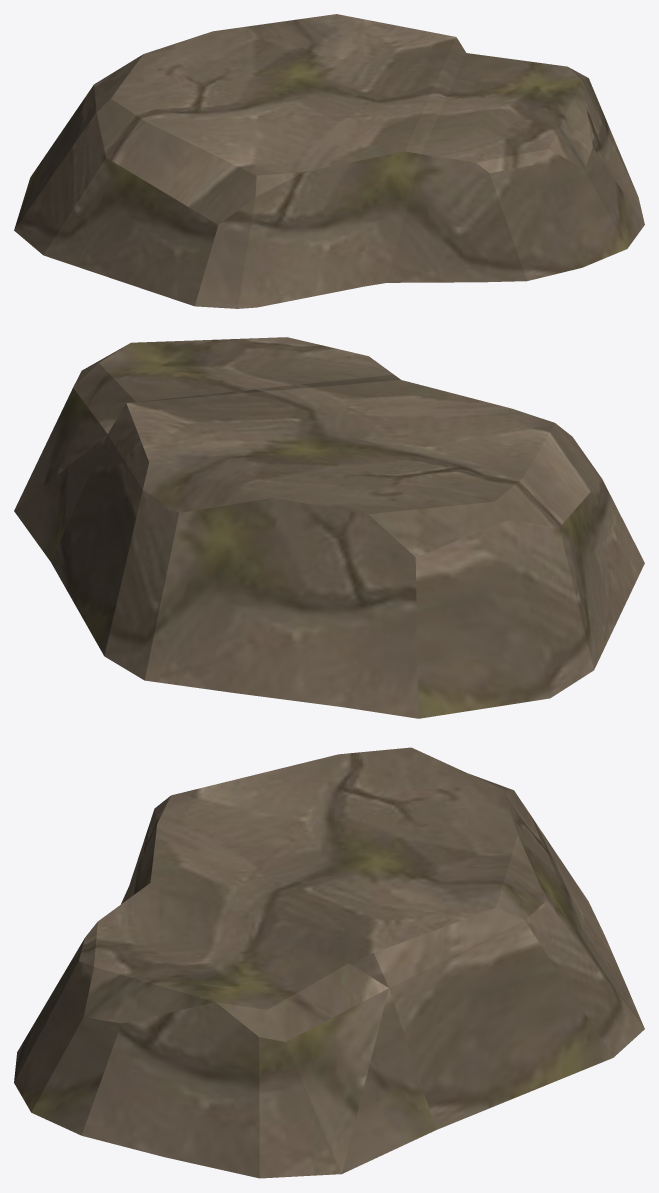
The model's file is gpebble_round_5.glb.
3 renders of one model, top to bottom at view 1: azimuth 30°, elevation 25°; view 2: azimuth 150°, elevation 25°; view 3: azimuth 270°, elevation 25°, orthographic. The views are drawn at different scales.
Visible parts, largest first — view 1: model; view 2: model; view 3: model.
Boxes of the visible parts, bbox=[...] form: model: bbox=[14, 14, 644, 308]; model: bbox=[14, 337, 644, 718]; model: bbox=[14, 747, 644, 1178].
Size of the model in its own units: 0.4104 by 0.1015 by 0.3491.
Materials: 1 (1 with a texture image).
